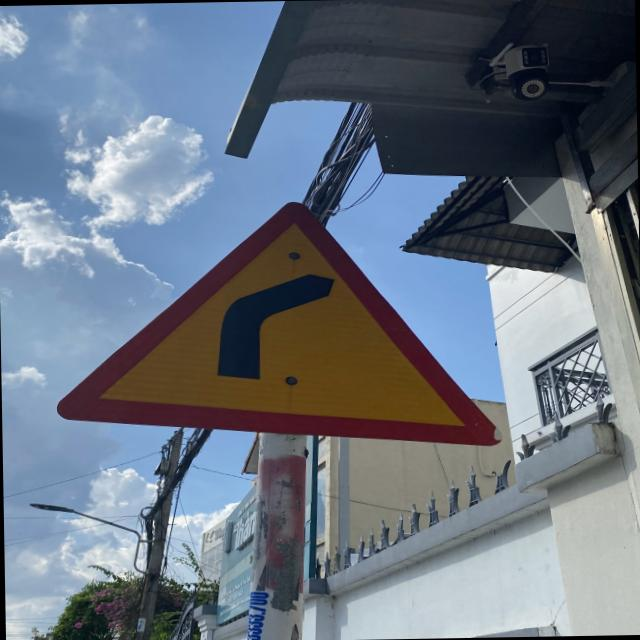Duong_Nguoi_Di_Bo_Cat_Ngang: (54, 197, 504, 450)
